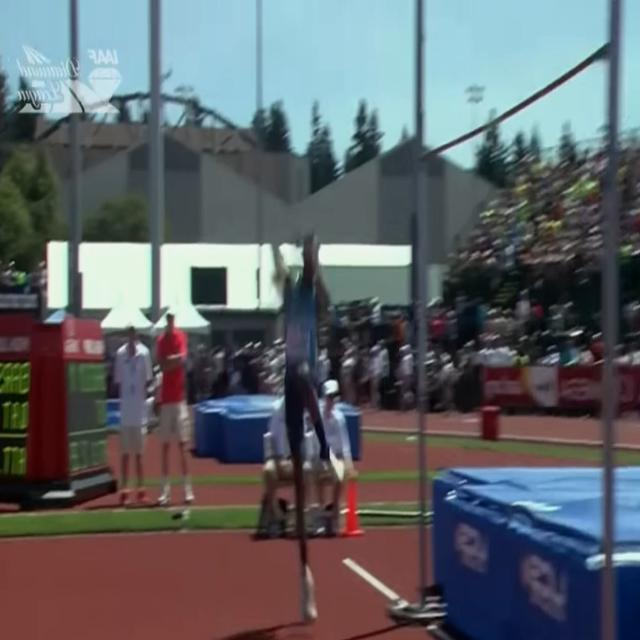jump: (266, 229, 343, 623)
